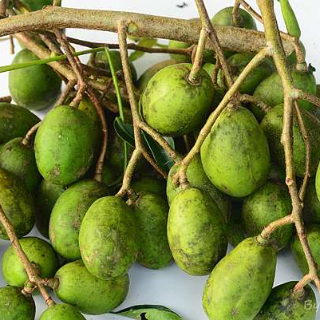coc: (140, 63, 213, 134), (167, 189, 226, 275), (34, 105, 97, 185), (78, 197, 139, 279)
